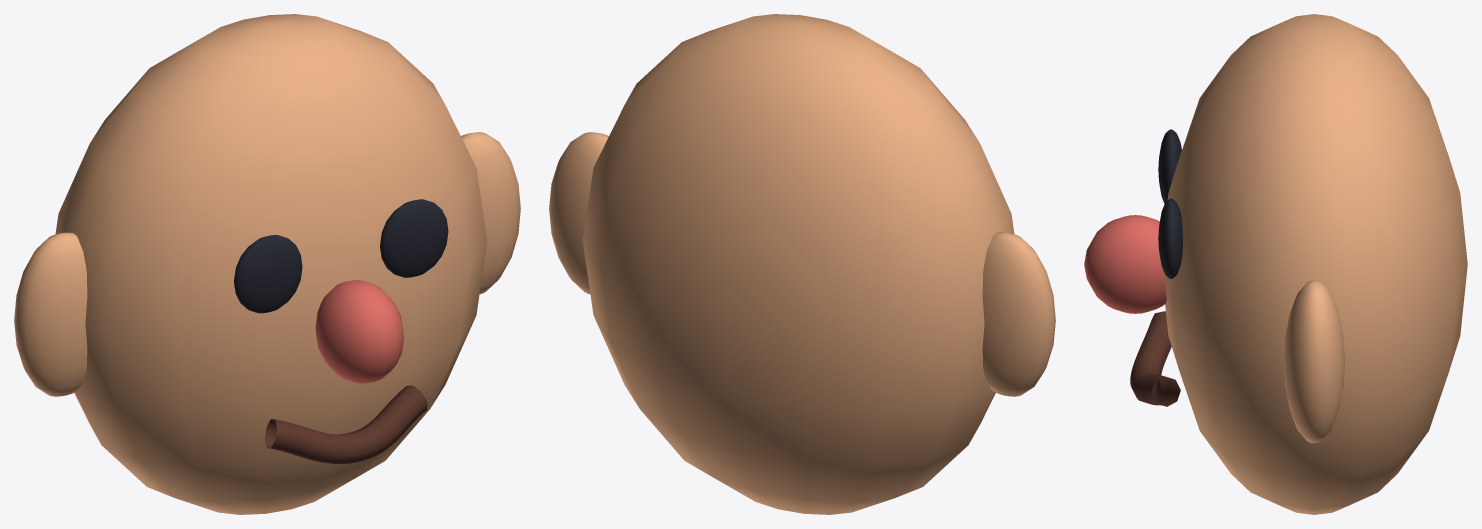
File: word-nose.glb
3 renders of one model, left to right at view 1: azimuth 30°, elevation 25°; view 2: azimuth 150°, elevation 25°; view 3: azimuth 270°, elevation 25°, orthographic. The views are drawn at different scales.
Parts seen in each view (by area): view 1: head, ear, nose, mouth, ear.001, eye, eye.001; view 2: head, ear, ear.001; view 3: head, ear.001, nose, mouth, eye.001, eye.
Part boxes in pixels (box(x1,y1,x2,y2)): head: box(55, 14, 487, 514); ear: box(14, 232, 87, 396); nose: box(315, 280, 403, 383); mouth: box(264, 385, 427, 463); ear.001: box(461, 132, 520, 294); eye: box(234, 235, 302, 313); eye.001: box(380, 199, 448, 277); head: box(582, 14, 1014, 514); ear: box(982, 232, 1055, 396); ear.001: box(549, 132, 608, 294); head: box(1165, 14, 1467, 514); ear.001: box(1283, 280, 1344, 443); nose: box(1084, 215, 1166, 313); mouth: box(1130, 311, 1180, 406); eye.001: box(1158, 198, 1182, 278); eye: box(1158, 129, 1181, 203).
Bounding box in the file's own units: 1.1 × 1 × 0.75.
